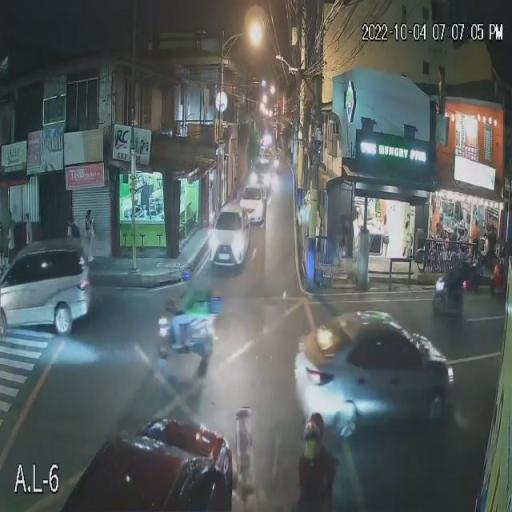helmet: (181, 262, 195, 287), (449, 250, 459, 268)
motorcycle: (152, 308, 220, 364), (433, 279, 470, 316)
rider: (172, 254, 202, 344), (442, 250, 462, 300)
